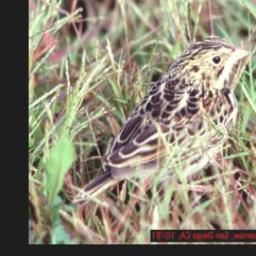Sparrow: (68, 35, 256, 211)
